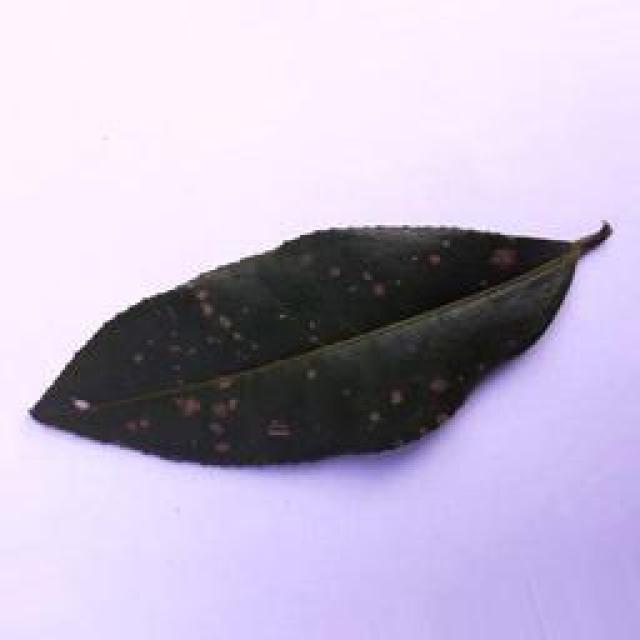Algal Leaf Spot: (31, 203, 579, 469)
